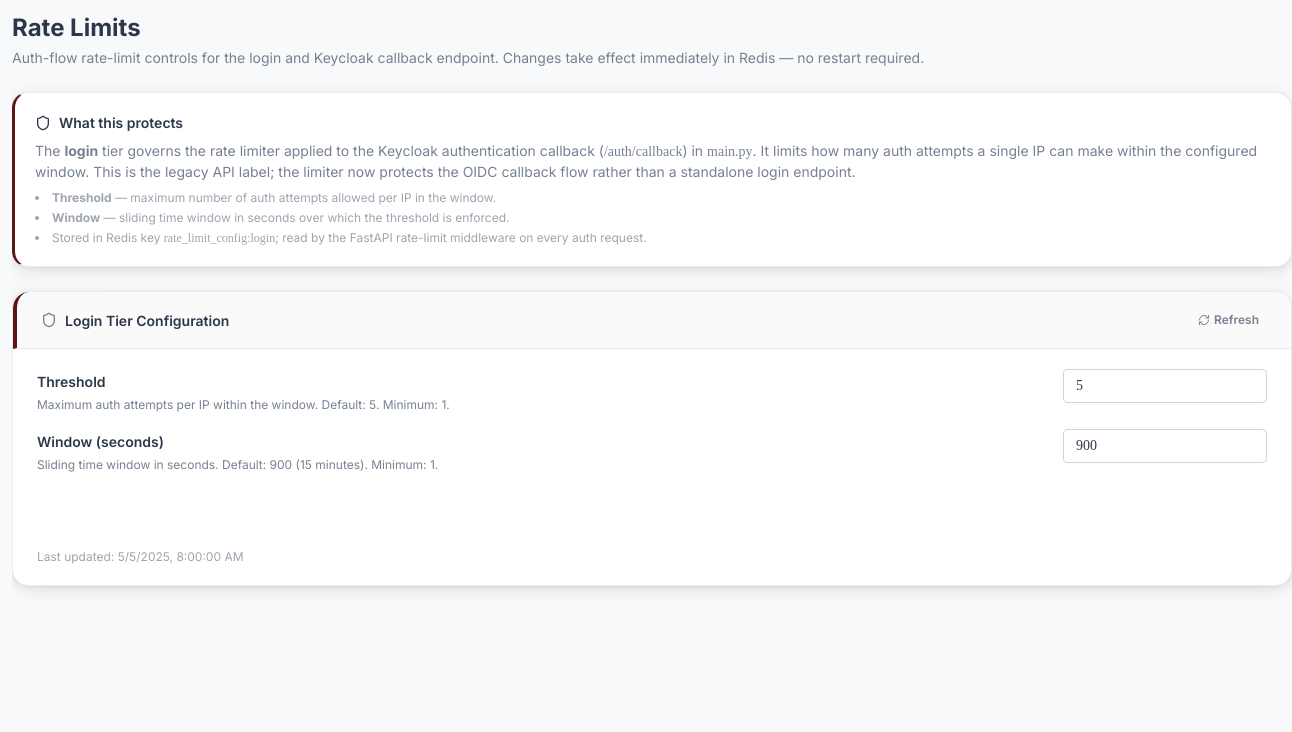
RateLimitsPage — save › saves updated threshold and window
The width and height of the screenshot is (1292, 732).
Step 1. Replace the text in the 1st number field showing "5" with "10" → (1165, 386), box top-left (1063, 369), bottom-right (1267, 403)
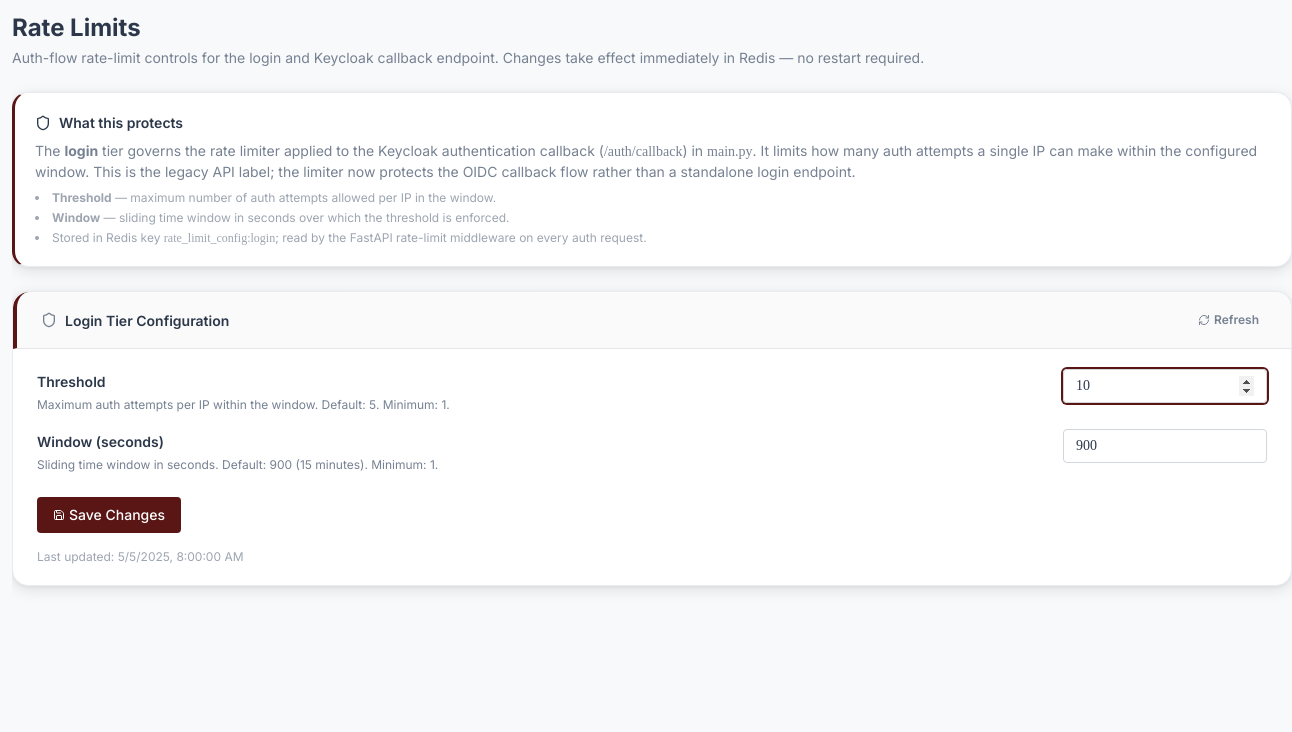
Step 2. Replace the text in the number field showing "900" in the row of "Window (seconds)" with "600" → (1165, 446), box top-left (1063, 429), bottom-right (1267, 463)
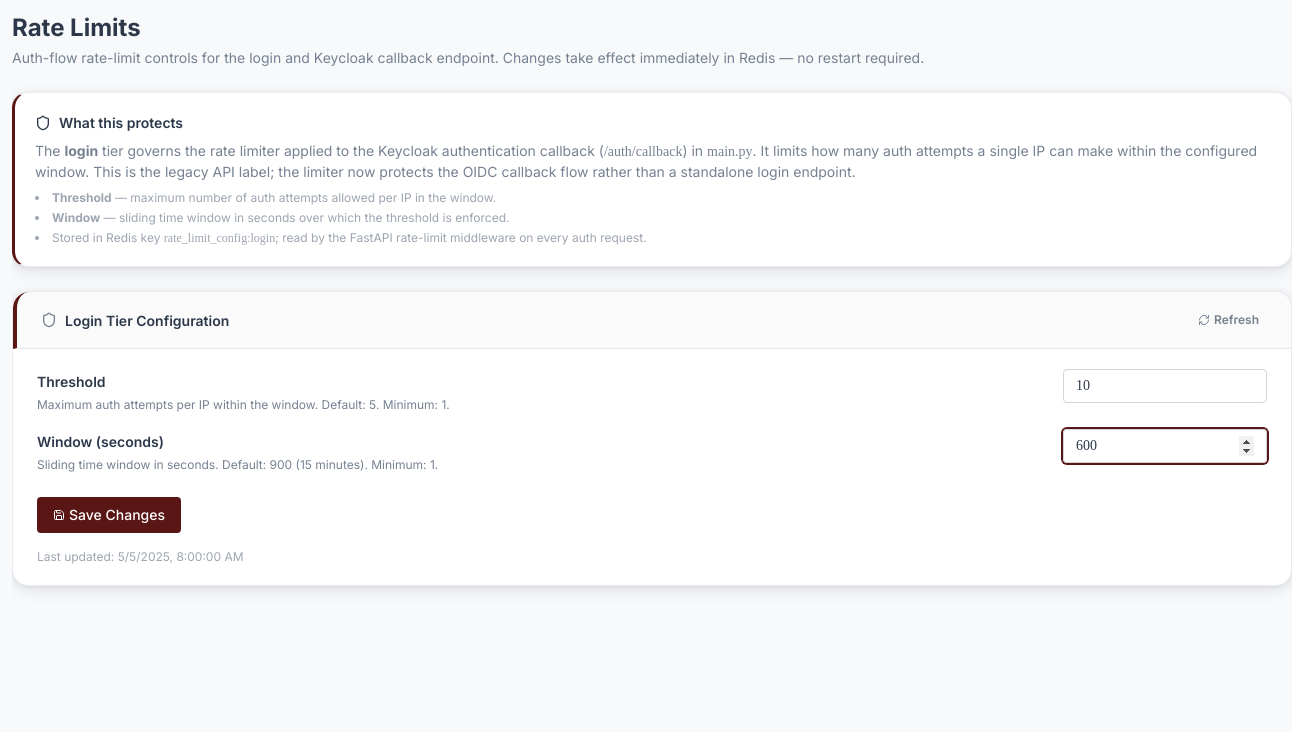
Step 3. Click the button "Save Changes" → (109, 515), box top-left (37, 497), bottom-right (181, 533)
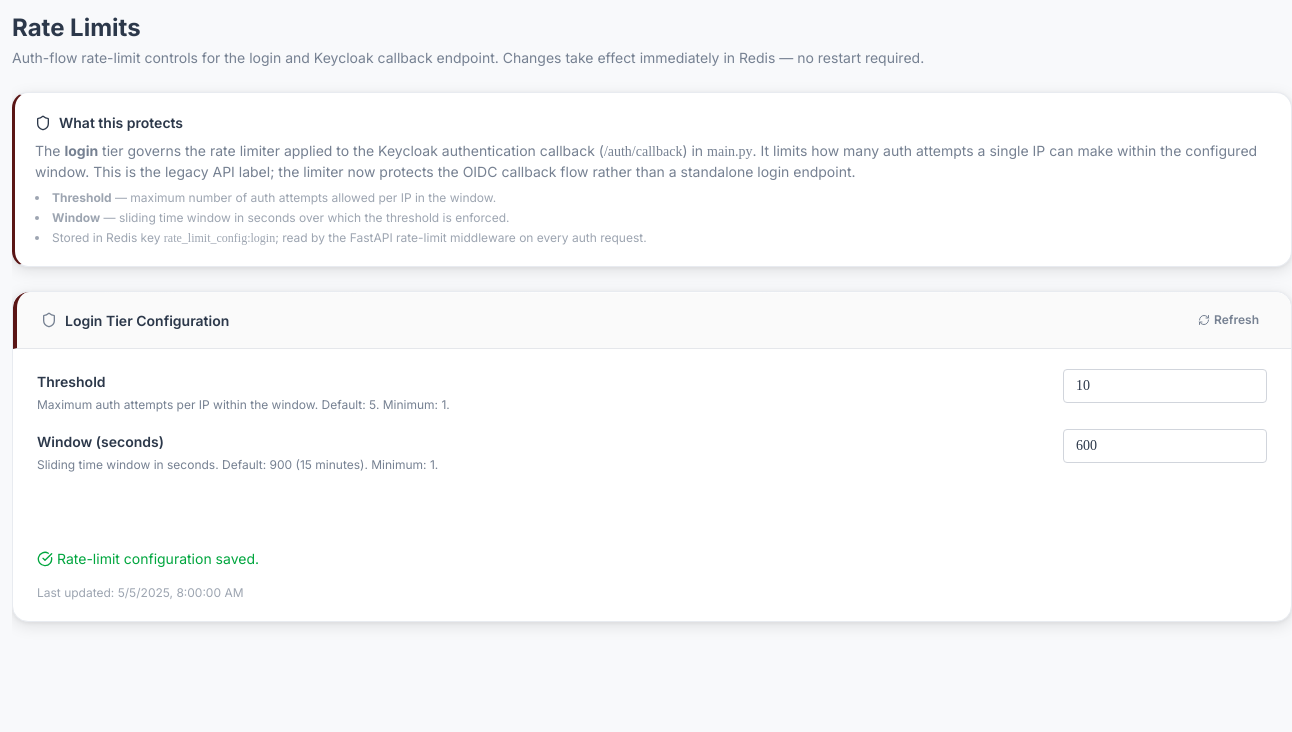
Result: the text "Rate-limit configuration saved." is shown at top-left (37, 550), bottom-right (259, 567)
